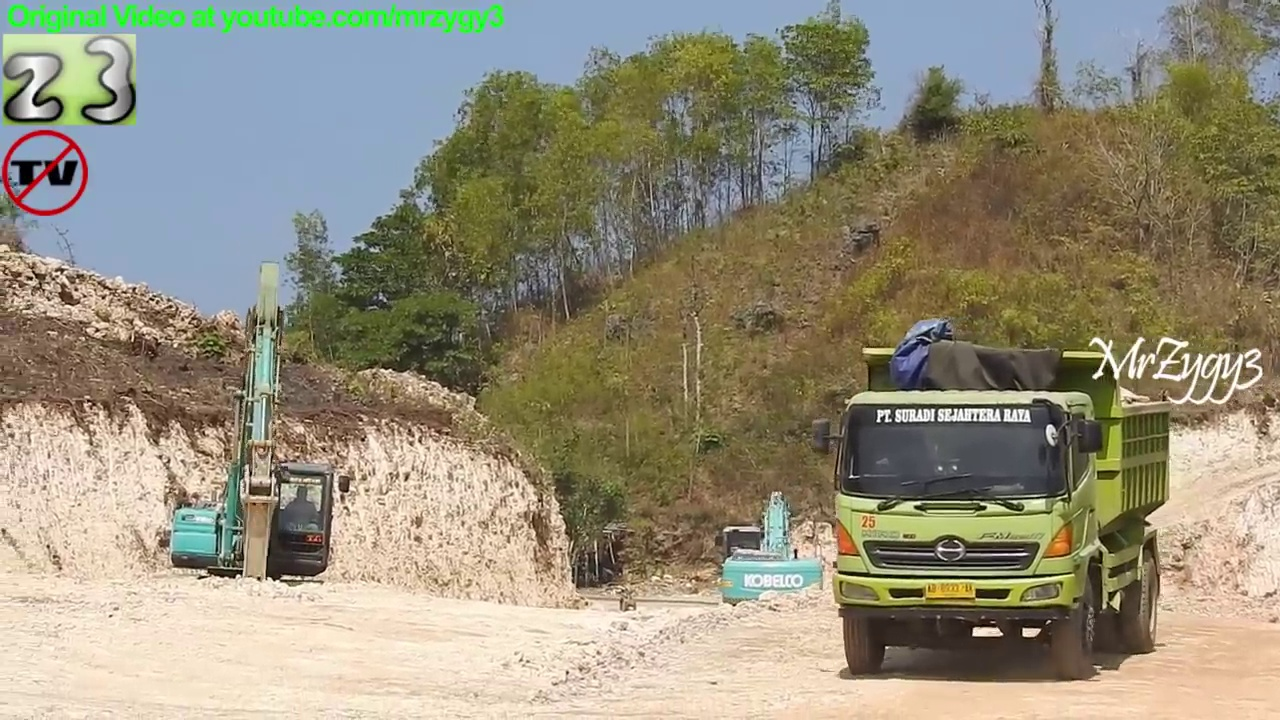excavator: (161, 255, 361, 633), (710, 482, 831, 638)
truck: (806, 338, 1178, 688)
